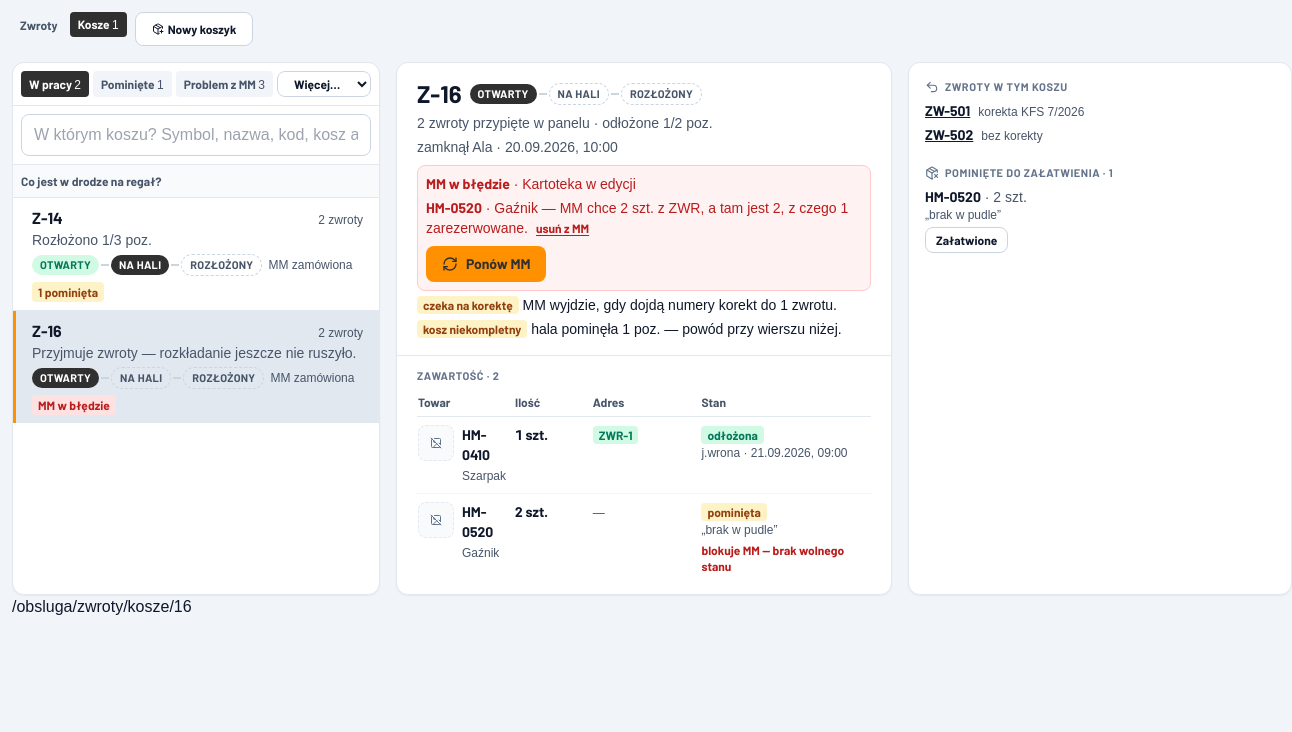
it: Kosze w zakładce Zwroty › karta nazywa kartotekę, która blokuje MM, i pozwala ją zdjąć po potwierdzeniu (0.530.0)
This screenshot has width=1292, height=732.
Expected: the list item "MM chce 2 szt. z ZWR, a tam jest 2, z czego 1 zarezerwowane" is shown, [426,198,862,238]
Expected: the text "blokuje MM — brak wolnego stanu" is shown, [701,543,844,573]
What coordinates should you click on to do the following:
click the button "usuń z MM"
I would click on:
 (563, 228)
Its box is [536,220,589,236].
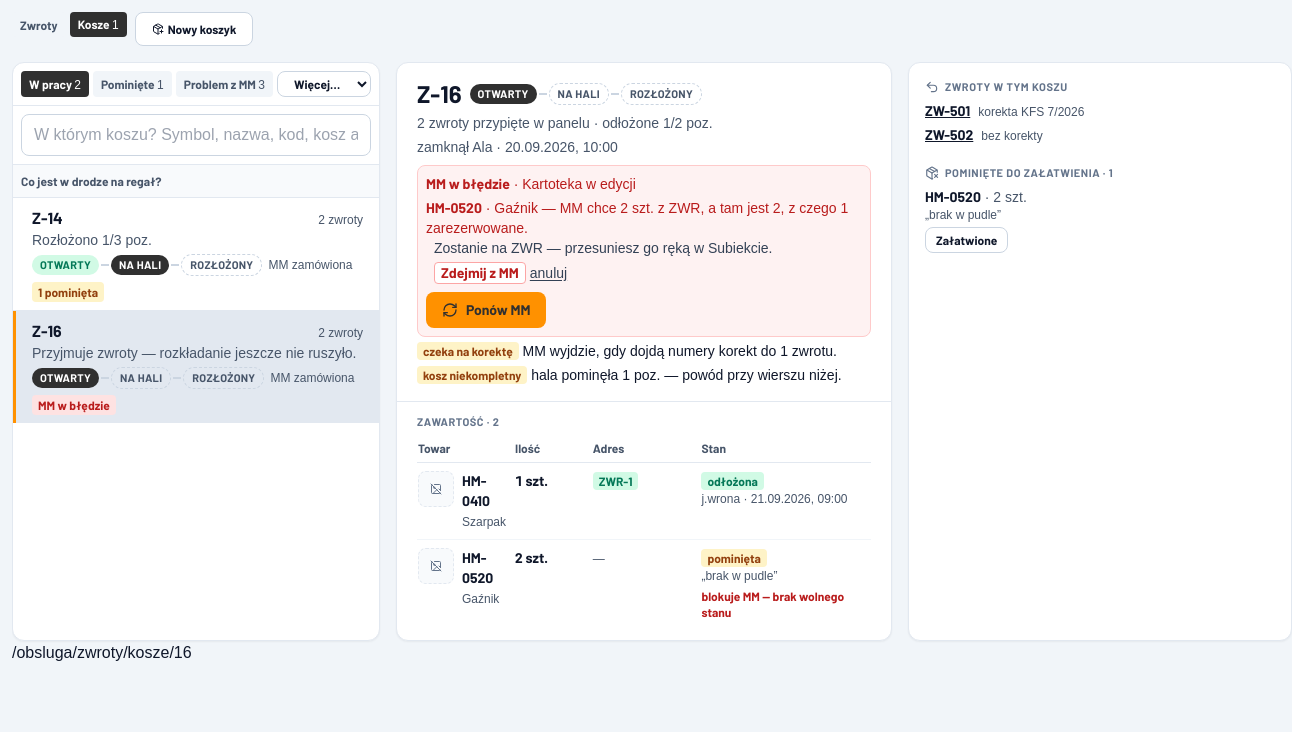
Now the text "Zostanie na ZWR" is shown, box [434,240,772,284]
What coordinates should you click on to do the following:
click the button "Zdejmij z MM"
I would click on:
 (480, 273)
Its box is [434,262,526,284].
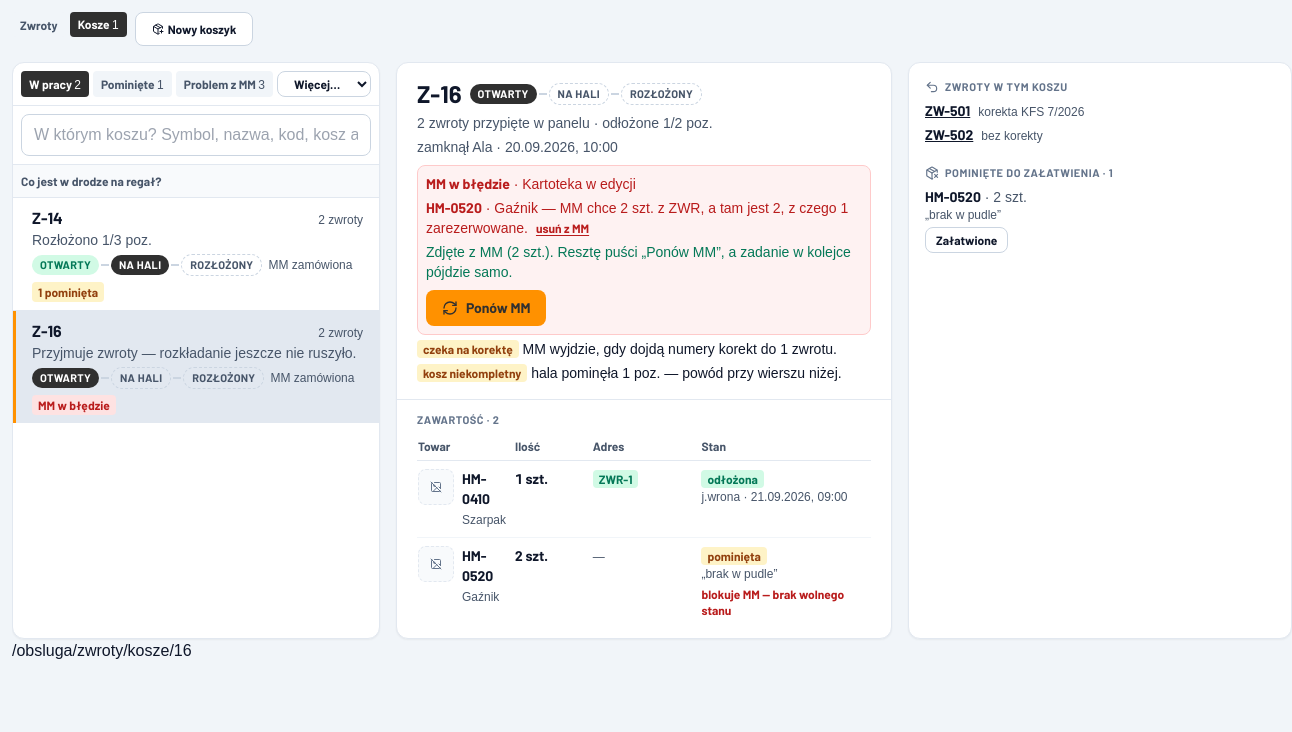
Now the text "Zdjęte z MM (2 szt.)" is shown, box [426,244,851,280]
